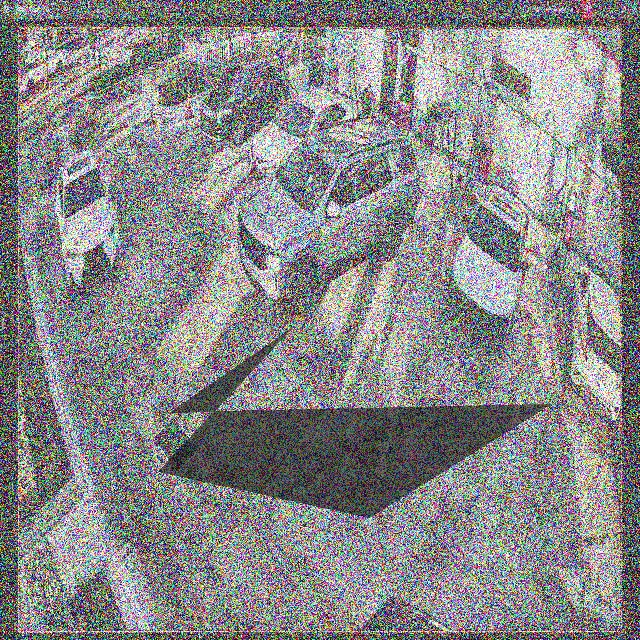Car: (238, 119, 418, 315), (450, 185, 533, 345), (249, 83, 362, 183), (201, 58, 288, 145)
